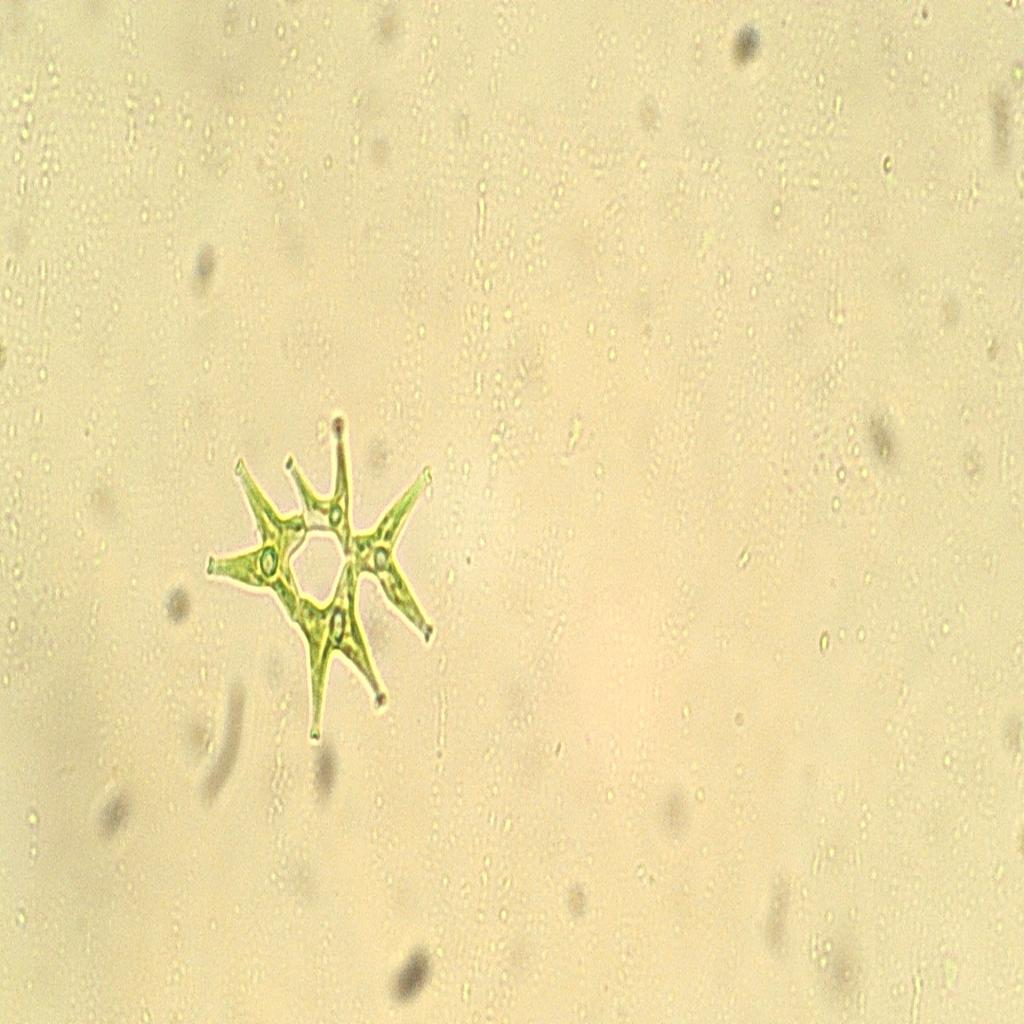Pediastrum_75FI: (198, 383, 454, 752)
